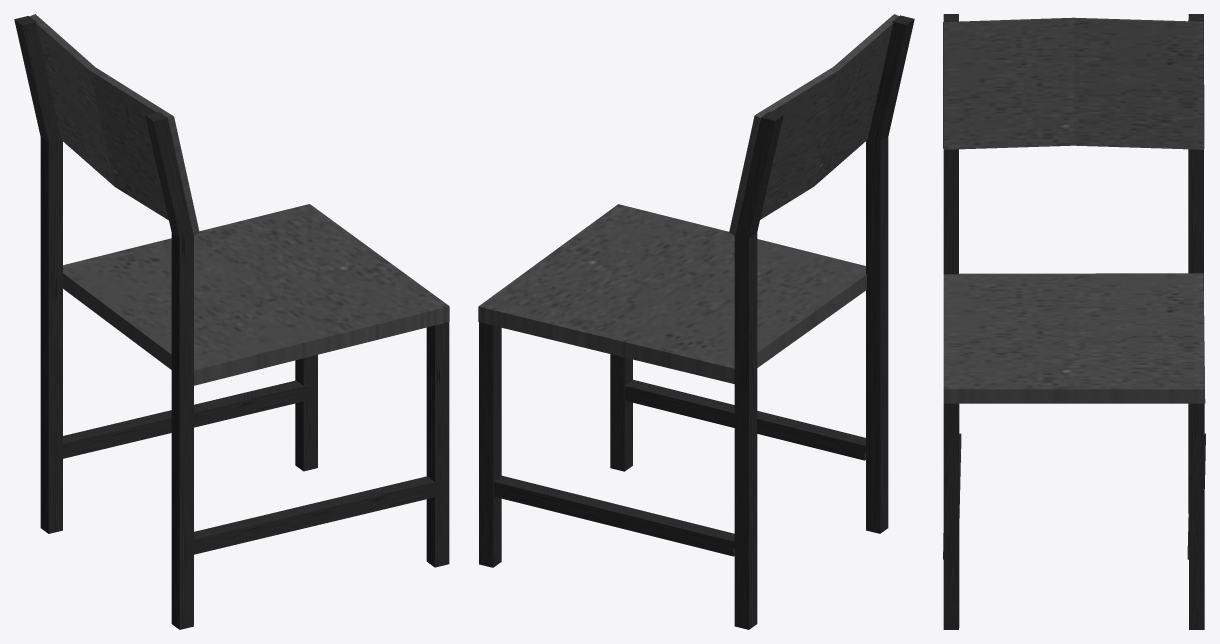
File: стул.fbx
3 renders of one model, left to right at view 1: azimuth 30°, elevation 25°; view 2: azimuth 150°, elevation 25°; view 3: azimuth 270°, elevation 25°, orthographic. The views are drawn at different scales.
Visible parts, largest first — view 1: Плоскость, Плоскость.001, Цилиндр.007, Цилиндр.001, Цилиндр.005, Цилиндр.003, Цилиндр.004, Цилиндр.006; view 2: Плоскость, Плоскость.001, Цилиндр.001, Цилиндр.007, Цилиндр.004, Цилиндр.006, Цилиндр.005, Цилиндр.003; view 3: Плоскость, Плоскость.001, Цилиндр.003, Цилиндр.006, Цилиндр.001, Цилиндр.007.
Part boxes in pixels (x1,y1,x2,y2): Плоскость: (63, 204, 449, 385); Плоскость.001: (29, 14, 199, 235); Цилиндр.007: (145, 112, 193, 629); Цилиндр.001: (14, 16, 62, 533); Цилиндр.005: (194, 476, 439, 554); Цилиндр.003: (426, 322, 449, 567); Цилиндр.004: (63, 380, 309, 458); Цилиндр.006: (295, 355, 317, 471); Плоскость: (478, 204, 866, 383); Плоскость.001: (729, 14, 898, 235); Цилиндр.001: (734, 111, 783, 629); Цилиндр.007: (866, 15, 914, 533); Цилиндр.004: (494, 475, 734, 556); Цилиндр.006: (479, 322, 501, 567); Цилиндр.005: (625, 379, 865, 460); Цилиндр.003: (610, 354, 632, 471); Плоскость: (943, 273, 1205, 403); Плоскость.001: (943, 17, 1204, 149); Цилиндр.003: (943, 403, 959, 629); Цилиндр.006: (1189, 403, 1204, 629); Цилиндр.001: (1188, 14, 1203, 513); Цилиндр.007: (943, 14, 958, 274).
Bounding box in the file's own units: 60.24 × 100 × 49.54.
8 materials, 8 textured.
